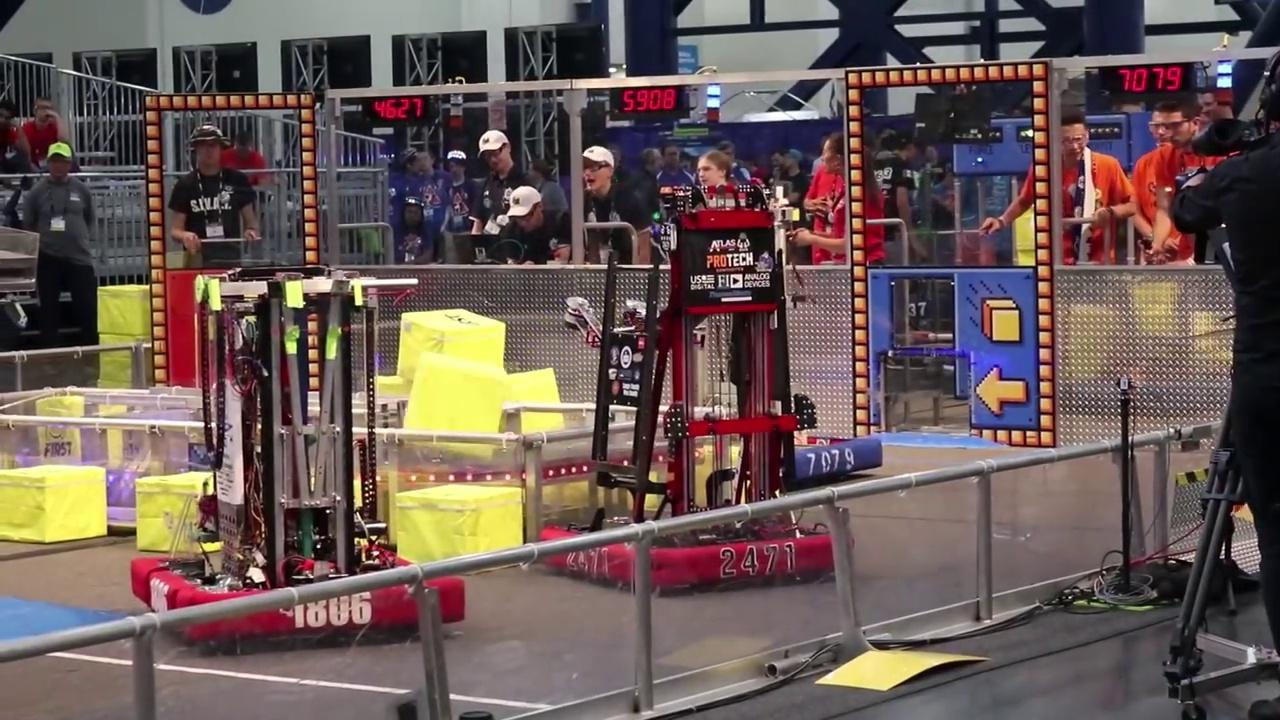robot: (130, 266, 467, 650), (540, 183, 843, 588), (774, 418, 883, 490)
